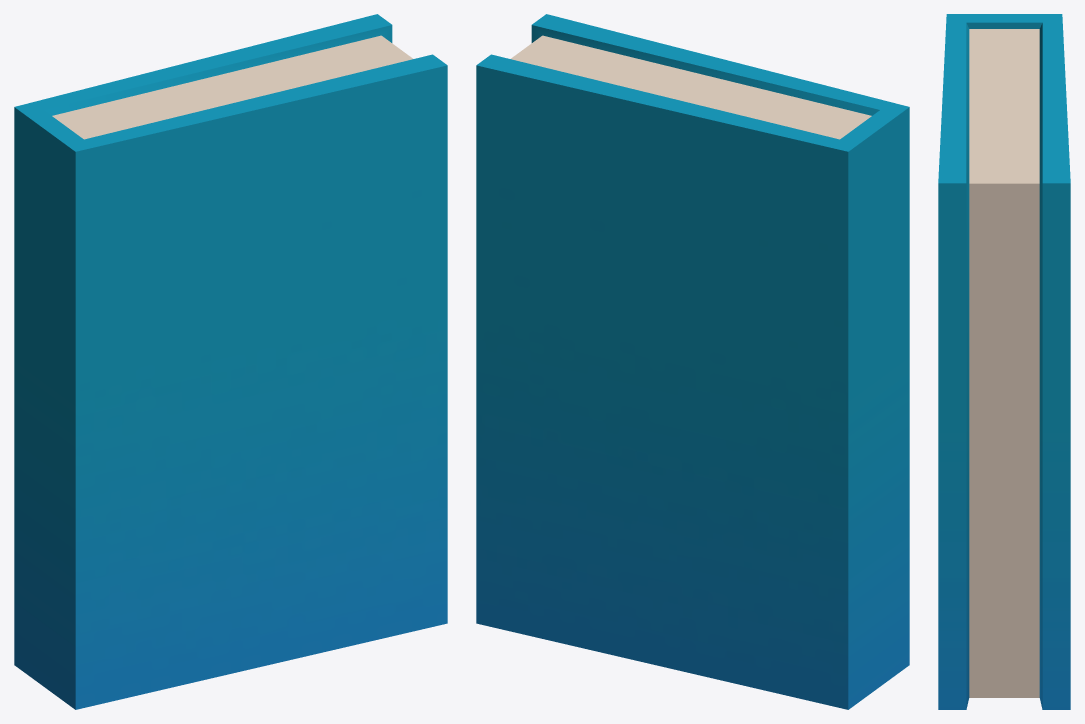
The model's file is SM_Book_3_04.fbx.
The picture shows the model from 3 angles, left to right: view 1: azimuth 30°, elevation 25°; view 2: azimuth 150°, elevation 25°; view 3: azimuth 270°, elevation 25°; orthographic projection. The views are drawn at different scales.
Visible parts, largest first — view 1: SM_Book_3_04; view 2: SM_Book_3_04; view 3: SM_Book_3_04.
Part boxes in pixels (box(x1,y1,x2,y2)): SM_Book_3_04: box(14, 14, 447, 709); SM_Book_3_04: box(476, 14, 909, 709); SM_Book_3_04: box(938, 14, 1070, 709).
Size of the model in its own units: 23.96 by 34.76 by 7.92.
